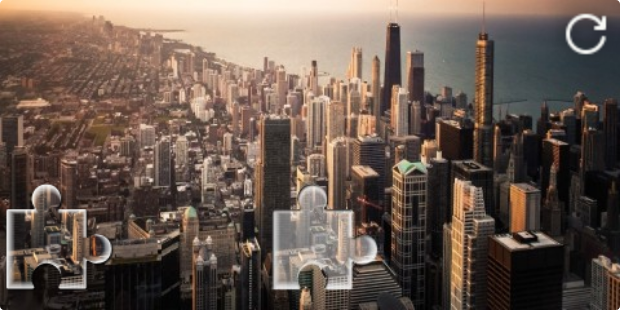target: (272, 185, 377, 290)
